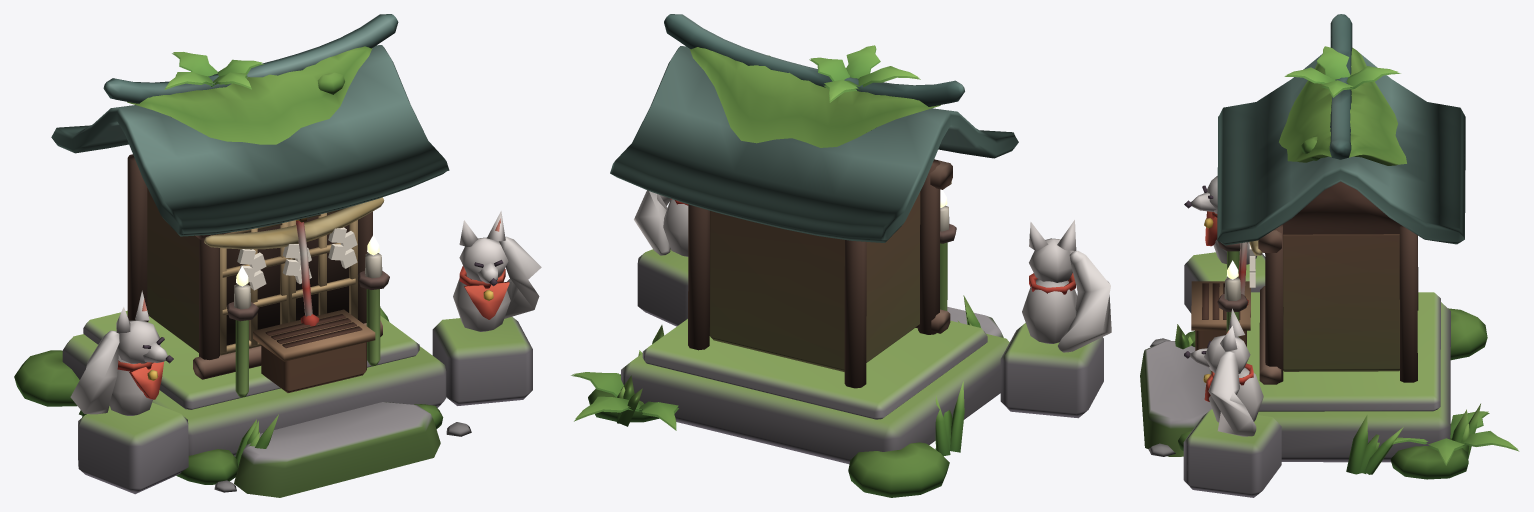
File: dg-bamboo-hokora.glb
3 views of the same model, side by side, from view 1: azimuth 30°, elevation 25°; view 2: azimuth 150°, elevation 25°; view 3: azimuth 270°, elevation 25° (orthographic). The views are drawn at different scales.
Parts seen in each view (by area): view 1: body, stone, leaf, cloth; view 2: body, stone, leaf; view 3: body, stone, leaf.
Part boxes in pixels (left/top/right/bottom): body: left=51, top=14, right=509, bottom=399; stone: left=14, top=46, right=541, bottom=497; leaf: left=79, top=52, right=389, bottom=467; cloth: left=237, top=227, right=357, bottom=290; body: left=610, top=14, right=1075, bottom=388; stone: left=588, top=47, right=1111, bottom=497; leaf: left=571, top=45, right=980, bottom=456; body: left=1191, top=14, right=1465, bottom=401; stone: left=1140, top=47, right=1487, bottom=497; leaf: left=1175, top=46, right=1519, bottom=474.
Bounding box in the file's own units: 2.55 × 1.86 × 1.92.
